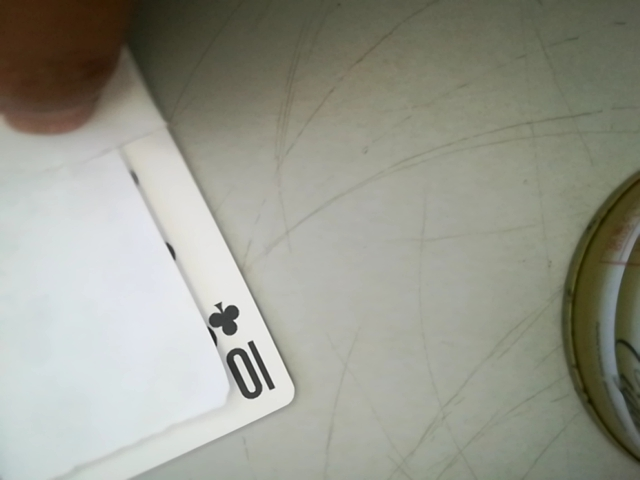mh 10: (196, 289, 278, 412)
